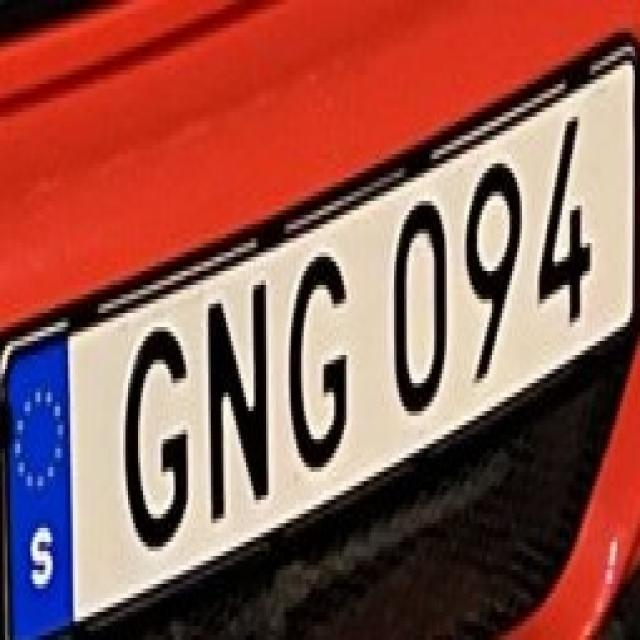0: (384, 178, 454, 416)
4: (532, 103, 605, 327)
9: (454, 145, 527, 383)
G: (112, 313, 198, 551), (276, 243, 356, 467)
N: (194, 262, 274, 524)
